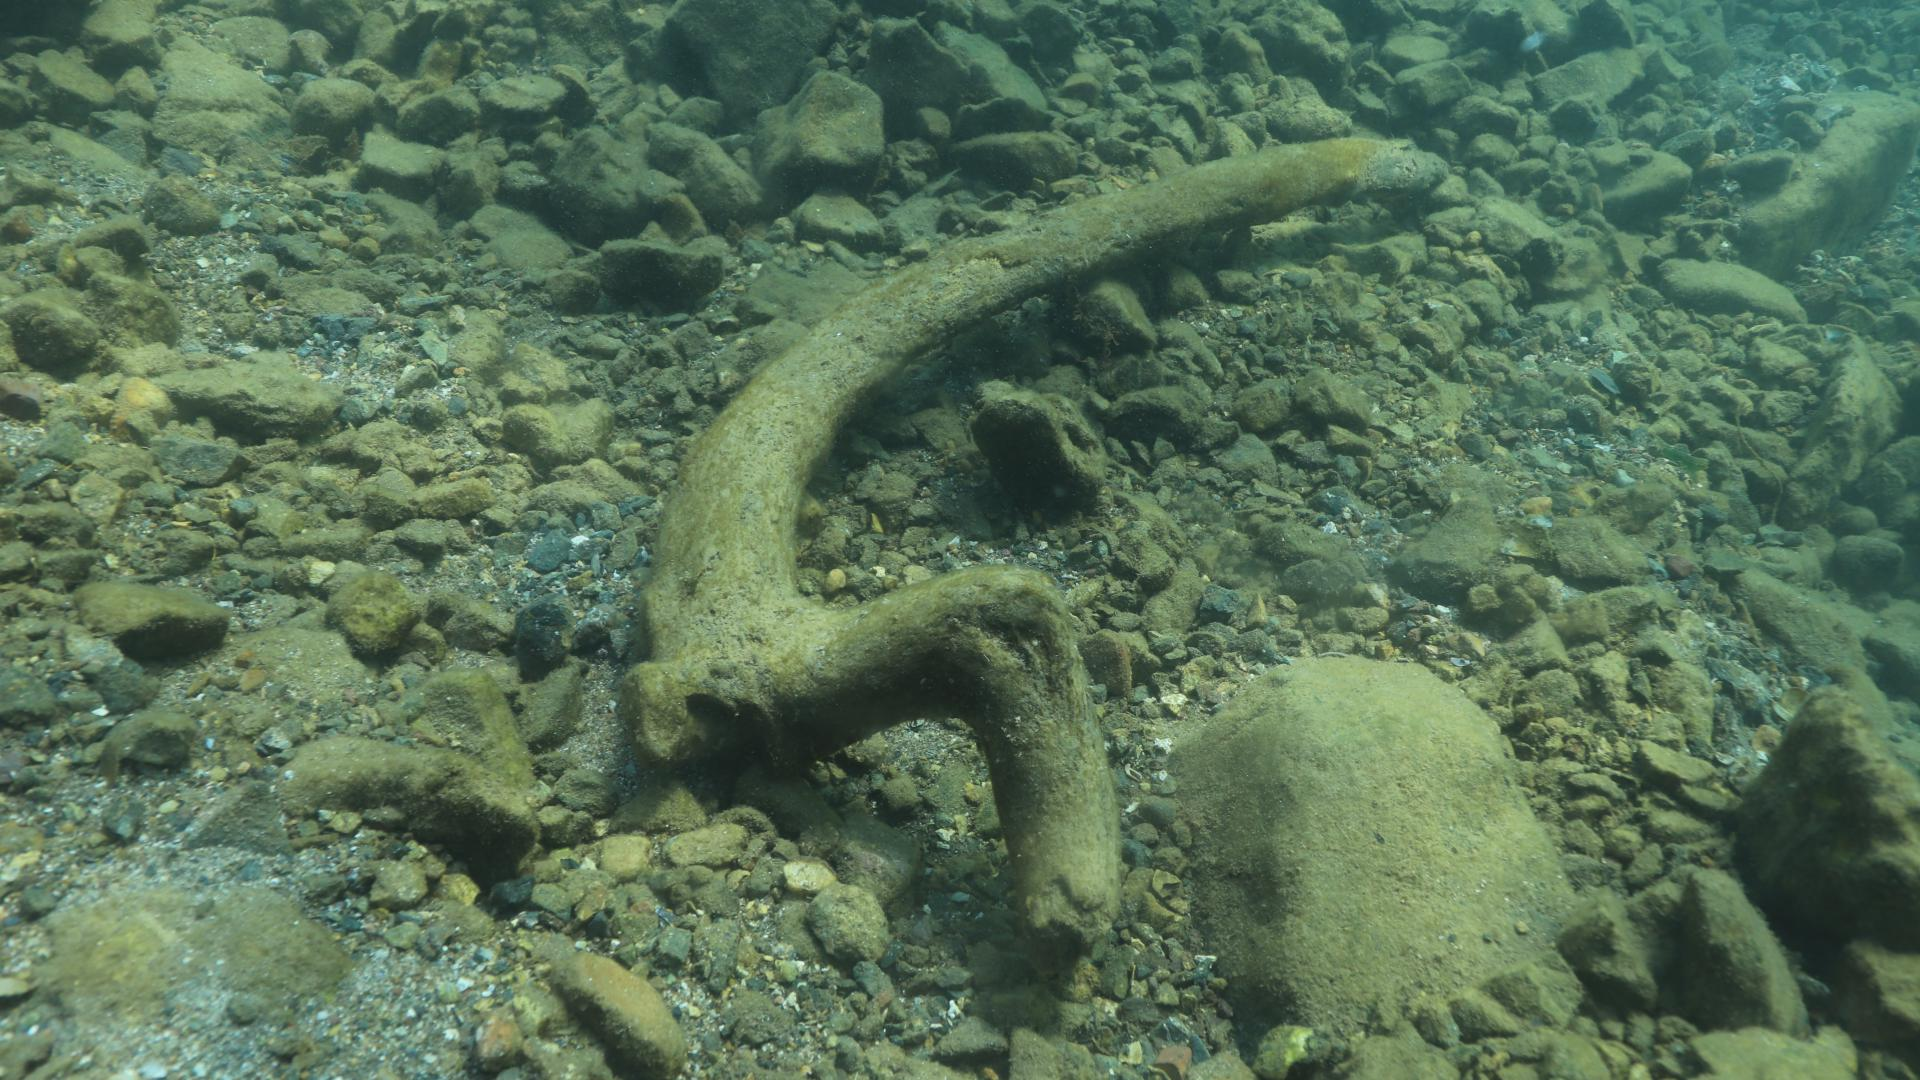wood: (615, 132, 1449, 973)
